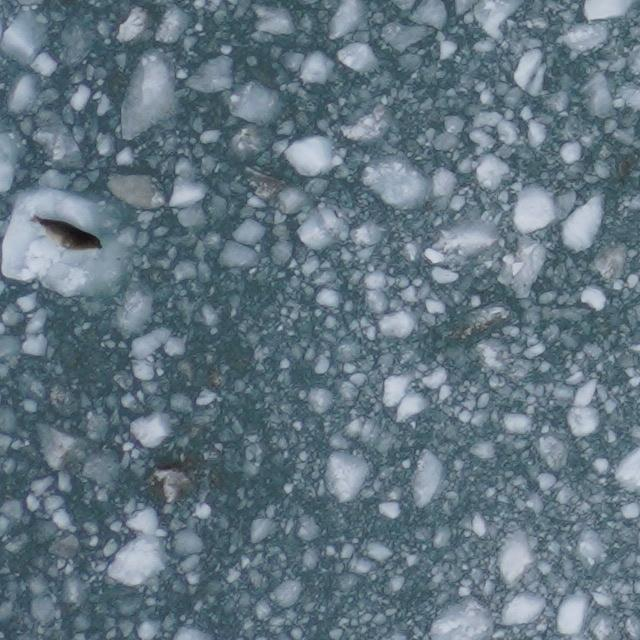seal: (27, 210, 107, 255)
